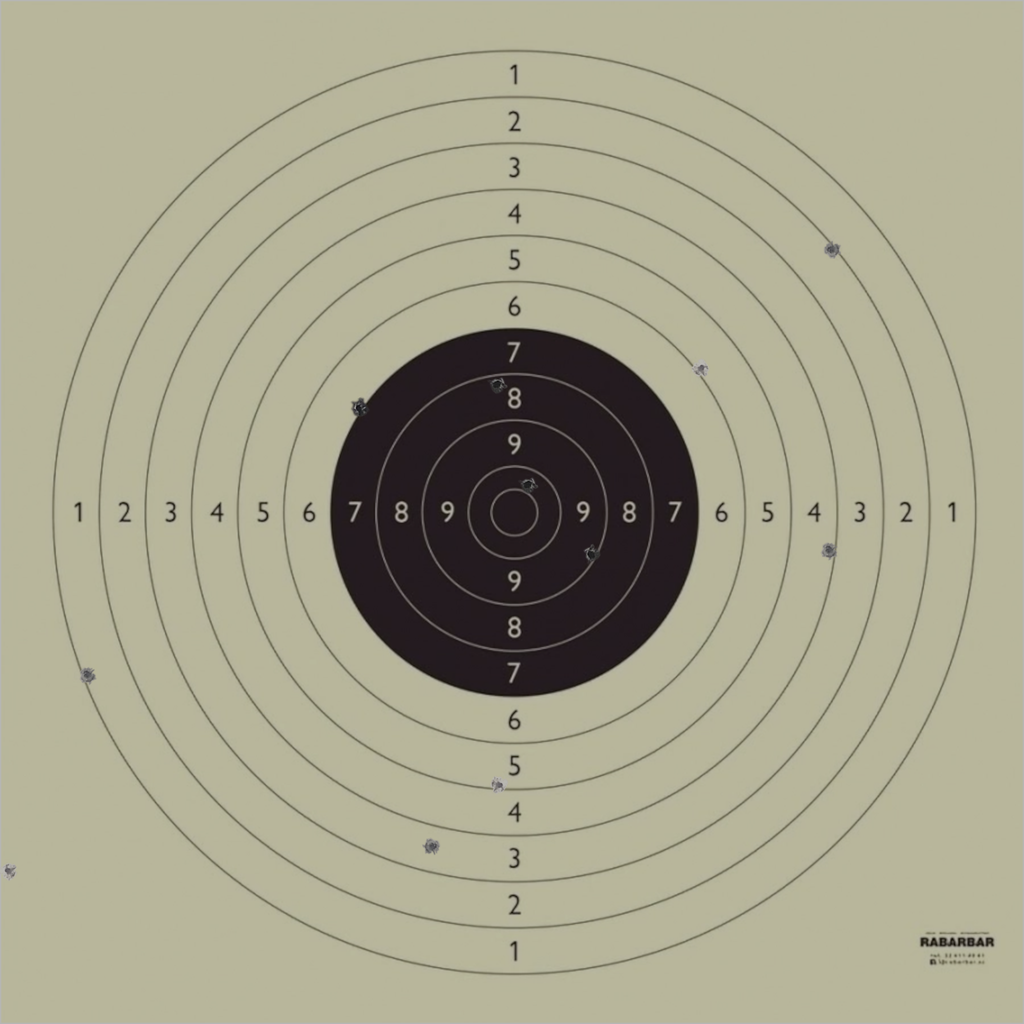0 punktow: (0, 862, 18, 880)
1 punkt: (78, 666, 97, 684)
10 punktow: (519, 475, 537, 494)
2 punkty: (822, 240, 841, 259)
3 punkty: (423, 837, 442, 856)
4 punkty: (820, 541, 838, 559)
5 punktow: (490, 776, 508, 794)
6 punktow: (692, 359, 711, 378)
7 punktow: (350, 399, 368, 417)
8 punktow: (488, 375, 507, 394)
9 punktow: (582, 545, 600, 564)
